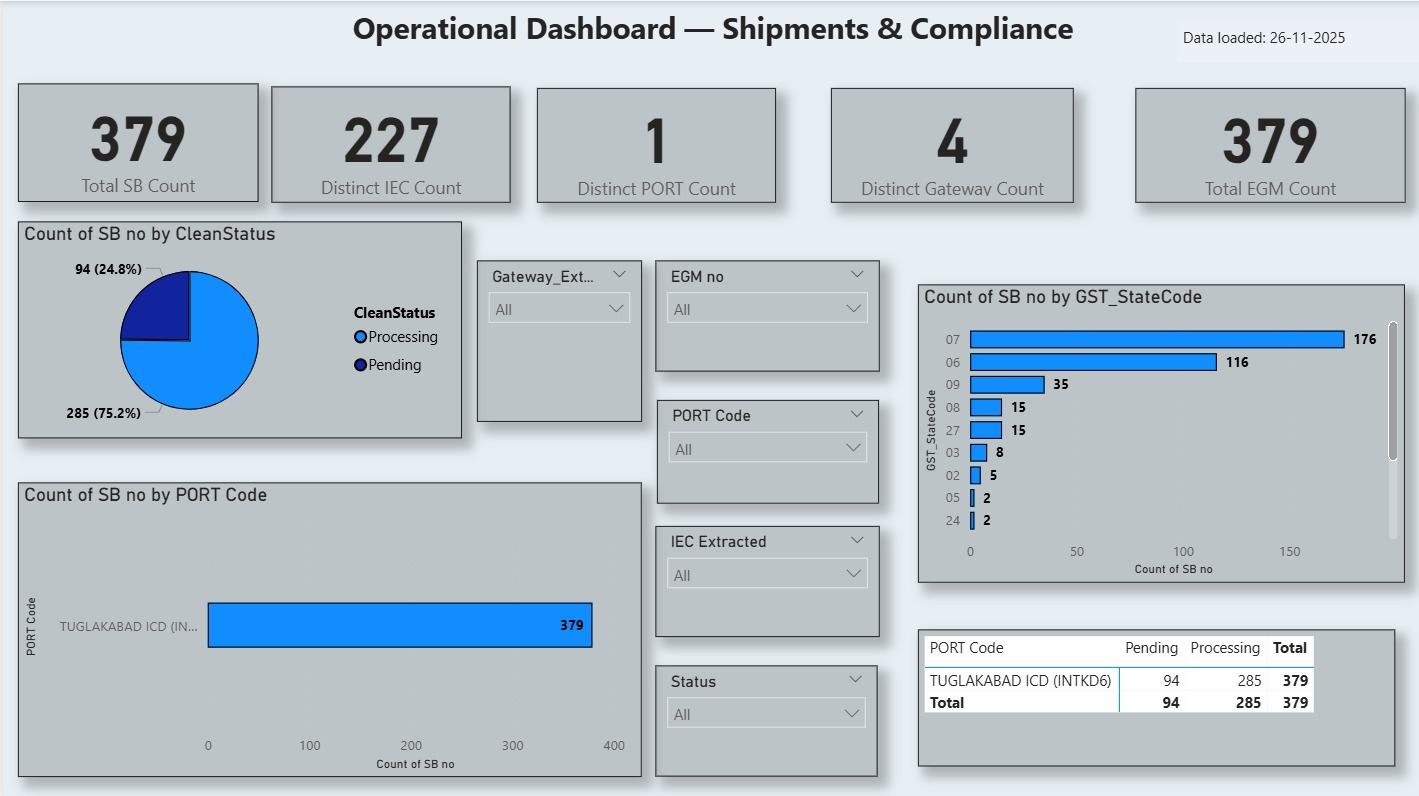

The page's visual inventory and layout, read from the dashboard file:
{"tool":"powerbi","page":{"name":"Overview","canvas":[1280,720],"ordinal":0},"visuals":[{"type":"textbox","box":[0,0,1279.4,75.6],"z":0},{"type":"textbox","box":[1058.3,37.8,221.1,37.8],"z":1000},{"type":"card","fields":{"Values":["tblShipments.Total SB Count"]},"box":[13.3,75,216.7,106.7],"z":2000},{"type":"card","fields":{"Values":["tblShipments.Distinct IEC Count"]},"box":[242.2,76.7,215.6,104.4],"z":3000},{"type":"card","fields":{"Values":["tblShipments.Distinct Gateway Count"]},"box":[745.6,77.8,218.9,103.3],"z":4000},{"type":"card","fields":{"Values":["tblShipments.Distinct PORT Count"]},"box":[481.1,77.8,215.6,103.3],"z":5000},{"type":"card","fields":{"Values":["tblShipments.Total EGM Count"]},"box":[1020,78.3,243.3,103.3],"z":6000},{"type":"slicer","fields":{"Values":["tblShipments.PORT Code"]},"box":[590,360,200,93.3],"z":7000},{"type":"slicer","fields":{"Values":["tblShipments.IEC Extracted"]},"box":[588.3,473.3,201.7,100],"z":8000},{"type":"slicer","fields":{"Values":["tblShipments.Gateway_Extracted"]},"box":[426.7,233.3,148.3,145],"z":9000},{"type":"slicer","fields":{"Values":["tblShipments.Status"]},"box":[588.3,598.3,200,100],"z":10000},{"type":"slicer","fields":{"Values":["tblShipments.EGM no"]},"box":[588.3,233.3,201.7,100],"z":11000},{"type":"pivotTable","fields":{"Rows":["tblShipments.PORT Code"],"Values":["CountNonNull(tblShipments.SB no)"],"Columns":["tblShipments.CleanStatus1"]},"box":[825,566.7,430,123.3],"z":12000},{"type":"pieChart","fields":{"Category":["tblShipments.CleanStatus"],"Y":["CountNonNull(tblShipments.SB no)"]},"box":[13.3,198.3,400,195],"z":13000},{"type":"clusteredBarChart","fields":{"Category":["tblShipments.GST_StateCode"],"Y":["CountNonNull(tblShipments.SB no)"]},"box":[825,255,438.3,268.3],"z":14000},{"type":"clusteredBarChart","fields":{"Y":["CountNonNull(tblShipments.SB no)"],"Category":["tblShipments.PORT Code"]},"box":[13.3,433.3,561.7,265],"z":15000}]}

Visuals, with their boxes in screenshot pixels (x1, y1, x2, y2), scaled from the page's 1280x720 canvas onto the 1419x796 screenshot:
textbox: Rect(0, 0, 1418, 84)
textbox: Rect(1173, 42, 1418, 84)
card - tblShipments.Total SB Count: Rect(15, 83, 255, 201)
card - tblShipments.Distinct IEC Count: Rect(269, 85, 508, 200)
card - tblShipments.Distinct Gateway Count: Rect(827, 86, 1069, 200)
card - tblShipments.Distinct PORT Count: Rect(533, 86, 772, 200)
card - tblShipments.Total EGM Count: Rect(1131, 87, 1400, 201)
slicer - tblShipments.PORT Code: Rect(654, 398, 876, 501)
slicer - tblShipments.IEC Extracted: Rect(652, 523, 876, 634)
slicer - tblShipments.Gateway_Extracted: Rect(473, 258, 637, 418)
slicer - tblShipments.Status: Rect(652, 661, 874, 772)
slicer - tblShipments.EGM no: Rect(652, 258, 876, 368)
pivotTable - tblShipments.PORT Code x CountNonNull(tblShipments.SB no): Rect(915, 627, 1391, 763)
pieChart - tblShipments.CleanStatus x CountNonNull(tblShipments.SB no): Rect(15, 219, 458, 435)
clusteredBarChart - tblShipments.GST_StateCode x CountNonNull(tblShipments.SB no): Rect(915, 282, 1400, 579)
clusteredBarChart - CountNonNull(tblShipments.SB no) x tblShipments.PORT Code: Rect(15, 479, 637, 772)
